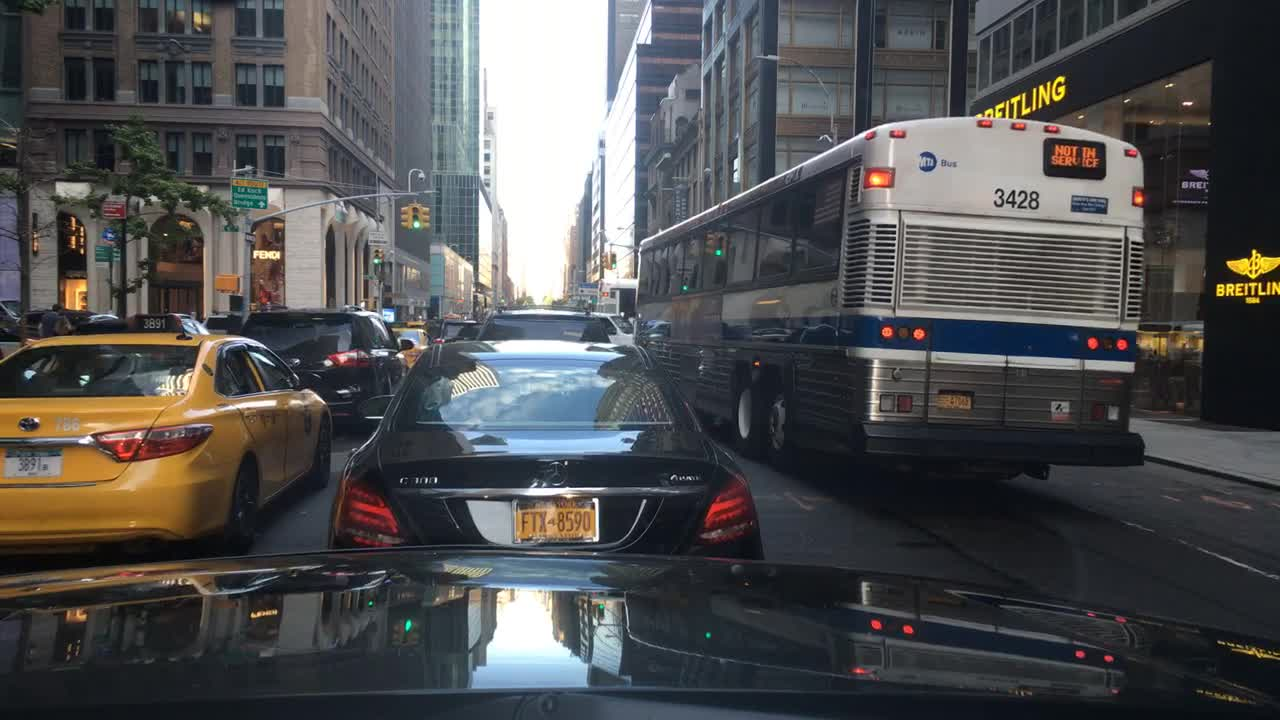bus: (632, 114, 1146, 499)
car: (328, 338, 760, 557), (0, 331, 333, 560), (234, 304, 414, 440), (474, 308, 613, 344), (135, 308, 206, 336), (27, 304, 114, 326), (384, 326, 431, 366), (0, 295, 29, 352), (590, 308, 634, 344), (197, 309, 242, 335), (72, 313, 128, 332), (442, 315, 477, 338), (407, 319, 438, 336), (251, 301, 291, 312), (342, 301, 365, 312)
person: (39, 299, 67, 339)
traffic light: (212, 270, 237, 296), (409, 202, 422, 229), (398, 204, 411, 231), (420, 204, 430, 230), (598, 250, 608, 269), (372, 246, 381, 265), (608, 249, 616, 269)
traffic sign: (232, 176, 268, 209), (95, 244, 122, 265), (103, 201, 123, 222), (577, 281, 596, 296), (367, 231, 387, 245), (101, 227, 114, 243), (221, 222, 239, 233), (242, 231, 255, 244)
